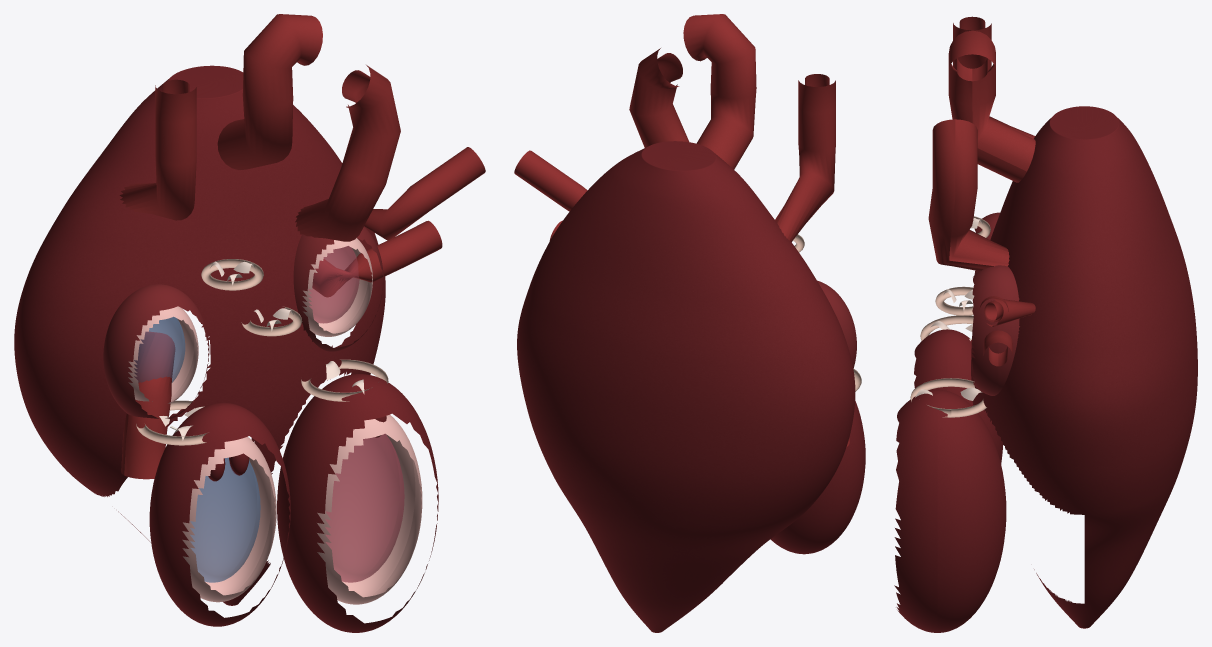
File: heart_segmented.glb
The picture shows the model from 3 angles, left to right: view 1: azimuth 30°, elevation 25°; view 2: azimuth 150°, elevation 25°; view 3: azimuth 270°, elevation 25°; orthographic projection. The views are drawn at different scales.
Visible parts, largest first — view 1: HeartBody, WallLV, WallRV, Aorta, PulmonaryTrunk, BloodLV, WallRA, SVC, BloodRV, WallLA, IVC, PulmonaryVeinL (+7 smaller); view 2: HeartBody, Aorta, SVC, WallRV, PulmonaryTrunk, PulmonaryVeinL, WallRA; view 3: HeartBody, WallLV, PulmonaryTrunk, Aorta, WallLA, WallRV, PulmonaryVeinL, AnnulusMitral, SVC, PulmonaryVeinR, AnnulusPulmonary, AnnulusTricuspid.
Boxes of the visible parts, box(x1,y1,x2,y2) form: HeartBody: box(14, 65, 385, 605); WallLV: box(277, 374, 438, 632); WallRV: box(149, 402, 290, 626); Aorta: box(217, 14, 322, 169); PulmonaryTrunk: box(295, 65, 400, 241); BloodLV: box(325, 434, 404, 582); WallRA: box(103, 284, 209, 419); SVC: box(119, 79, 196, 220); BloodRV: box(190, 457, 260, 582); WallLA: box(293, 226, 383, 351); IVC: box(121, 331, 175, 479); PulmonaryVeinL: box(364, 147, 485, 240); HeartBody: box(517, 141, 855, 632); Aorta: box(683, 14, 756, 169); SVC: box(775, 74, 835, 242); WallRV: box(770, 401, 865, 554); PulmonaryTrunk: box(629, 48, 689, 147); PulmonaryVeinL: box(514, 150, 587, 211); WallRA: box(817, 280, 856, 368); HeartBody: box(971, 106, 1197, 628); WallLV: box(894, 389, 1006, 632); PulmonaryTrunk: box(928, 119, 1009, 271); Aorta: box(948, 30, 1035, 182); WallLA: box(971, 265, 1019, 395); WallRV: box(914, 329, 1002, 464); PulmonaryVeinL: box(979, 296, 1035, 326); AnnulusMitral: box(910, 378, 986, 417); SVC: box(953, 16, 1035, 138); PulmonaryVeinR: box(983, 330, 1012, 366); AnnulusPulmonary: box(935, 286, 973, 315); AnnulusTricuspid: box(920, 315, 973, 340).
Bounding box in the file's own units: 0.1023 × 0.1514 × 0.0705.
Materials: 9 (3 with a texture image).
